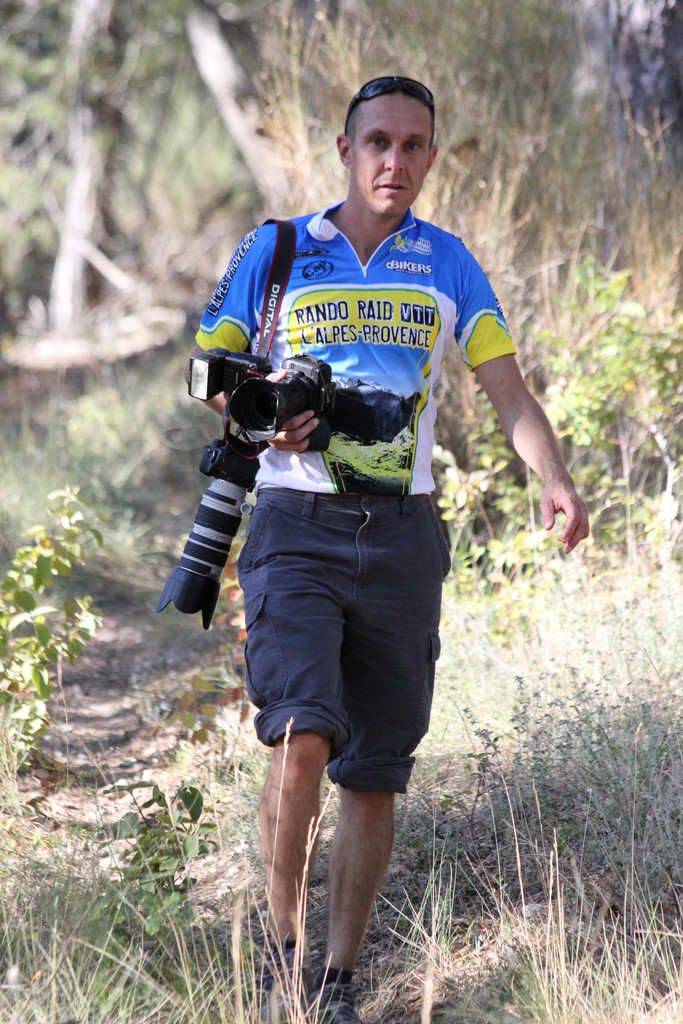Tree: (0, 0, 683, 517)
